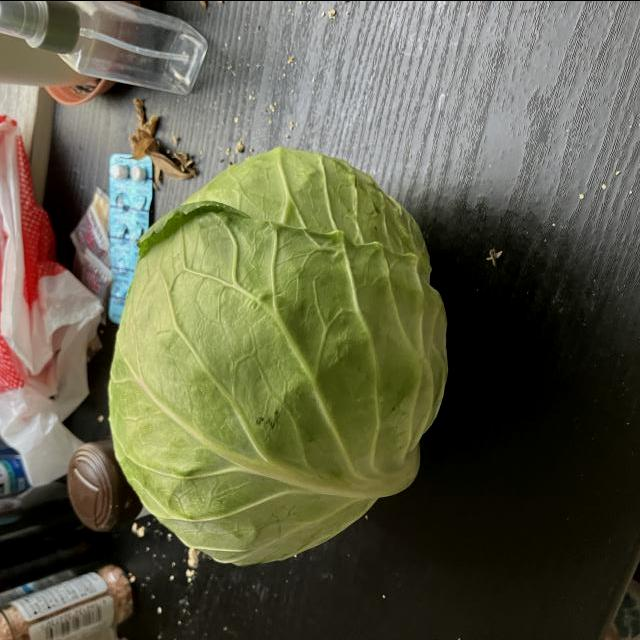cabbage: (107, 146, 457, 570)
